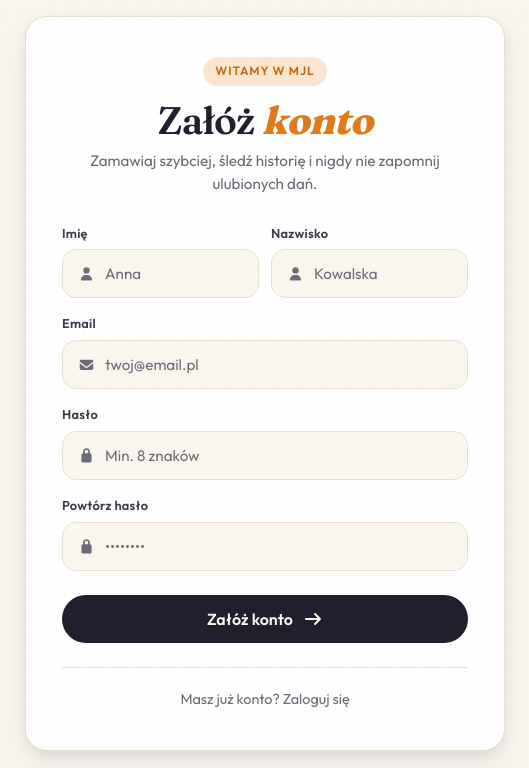
Test: Register › wyświetla błąd gdy hasło jest za krótkie
The width and height of the screenshot is (529, 768).
Type "Jan" into the field with placeholder "Anna" at (160, 274), box [62,249,259,298]
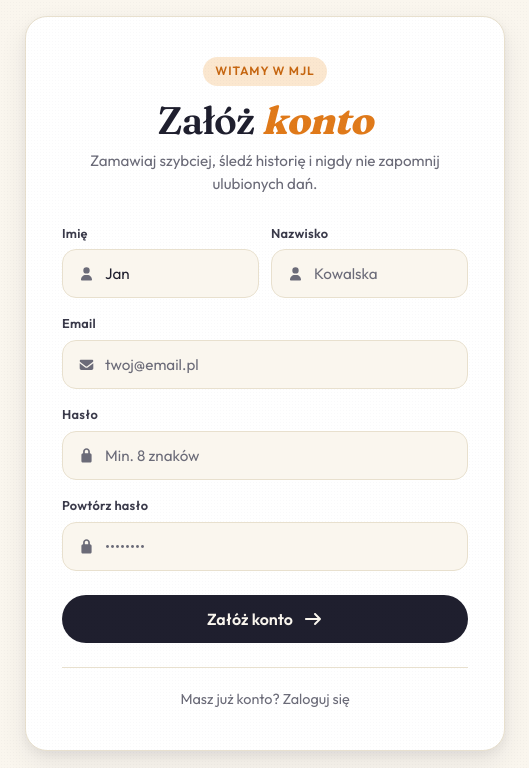
Type "Nowak" into the field with placeholder "Kowalska" at (370, 274), box [271,249,468,298]
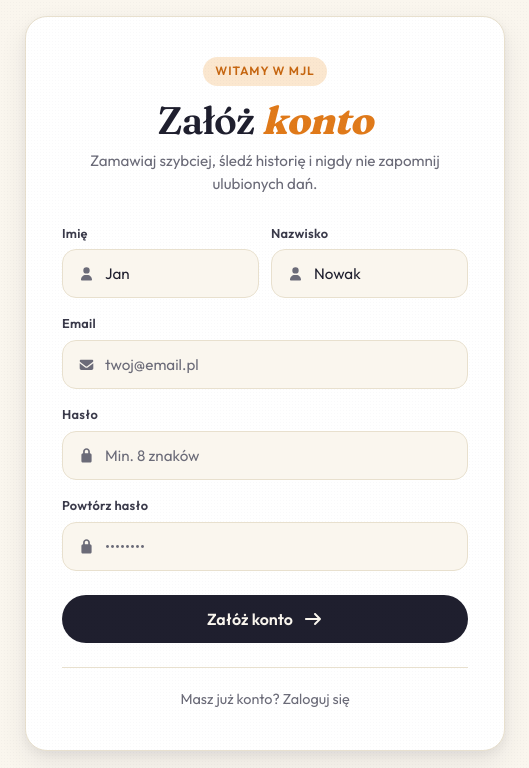
Type "jan@test.com" into the field with placeholder "twoj@email.pl" at (265, 365), box [62,340,468,389]
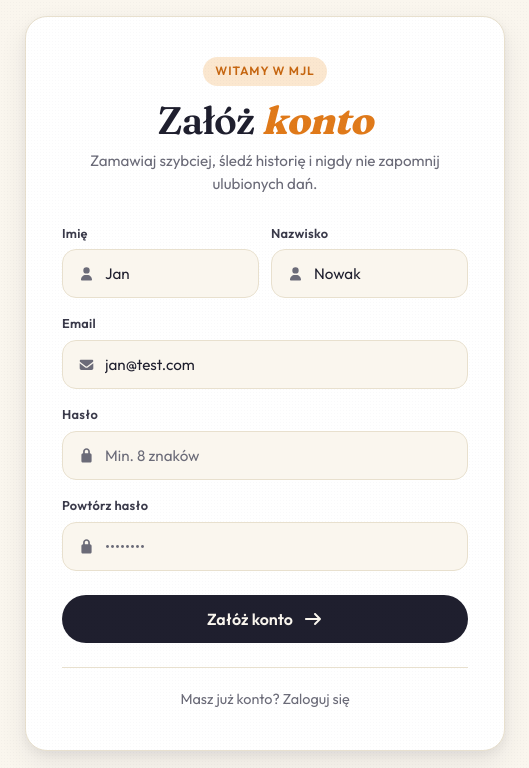
Type "abc" into the password field with placeholder "Min. 8 znaków" at (265, 456), box [62,431,468,480]
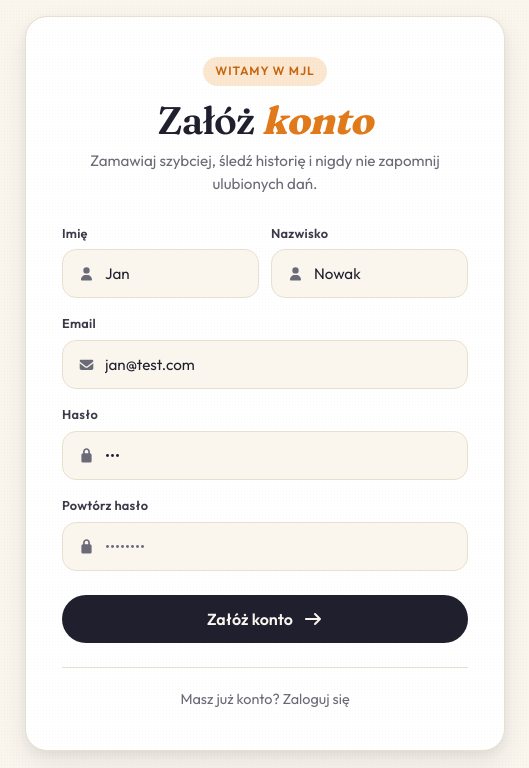
Type "abc" into the password field with placeholder "••••••••" at (265, 546), box [62,522,468,571]
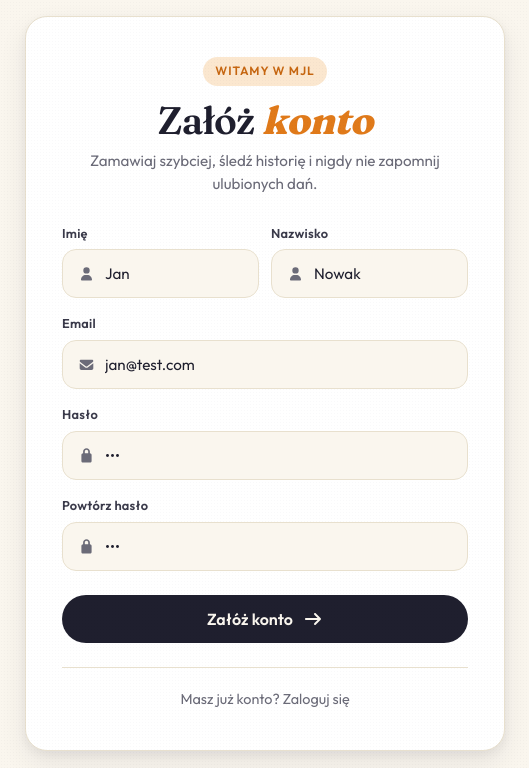
Submit the form "Imię Nazwisko Email Hasło Powtórz hasło Załóż konto", box [62,224,468,643]
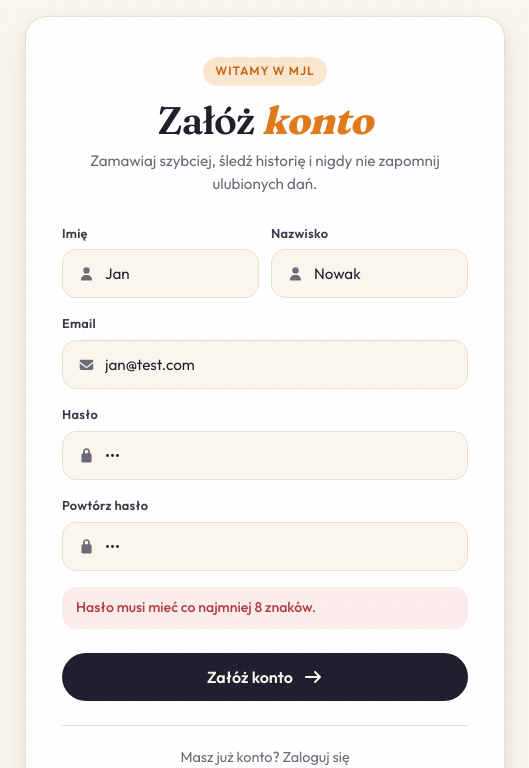
Expected: the text "Hasło musi mieć co najmniej 8 znaków." is shown, [62,587,468,629]
